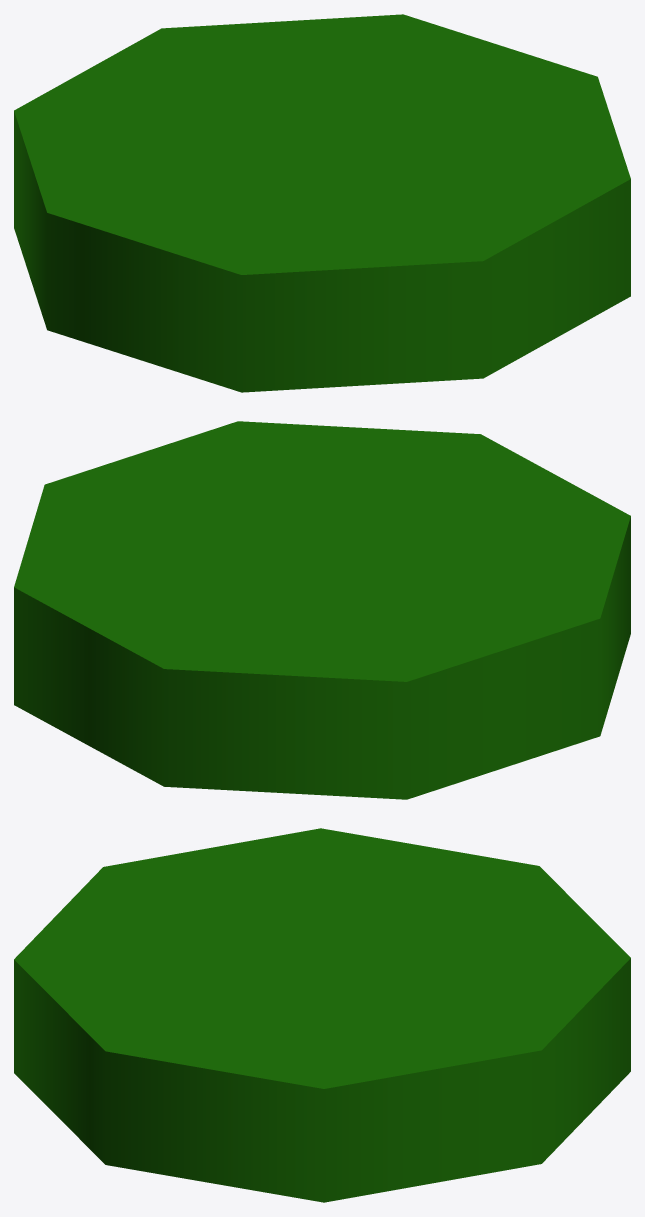
The model's file is moeda_poquer_verde.fbx.
3 views of the same model, one above another, from view 1: azimuth 30°, elevation 25°; view 2: azimuth 150°, elevation 25°; view 3: azimuth 270°, elevation 25° (orthographic). The views are drawn at different scales.
Parts seen in each view (by area): view 1: moeda_poquer_verde; view 2: moeda_poquer_verde; view 3: moeda_poquer_verde.
Boxes of the visible parts, x1=… form: moeda_poquer_verde: x1=14, y1=14, x2=630, y2=392; moeda_poquer_verde: x1=14, y1=421, x2=630, y2=799; moeda_poquer_verde: x1=14, y1=828, x2=630, y2=1202.
Size of the model in its own units: 5.46 by 1.11 by 5.46.
